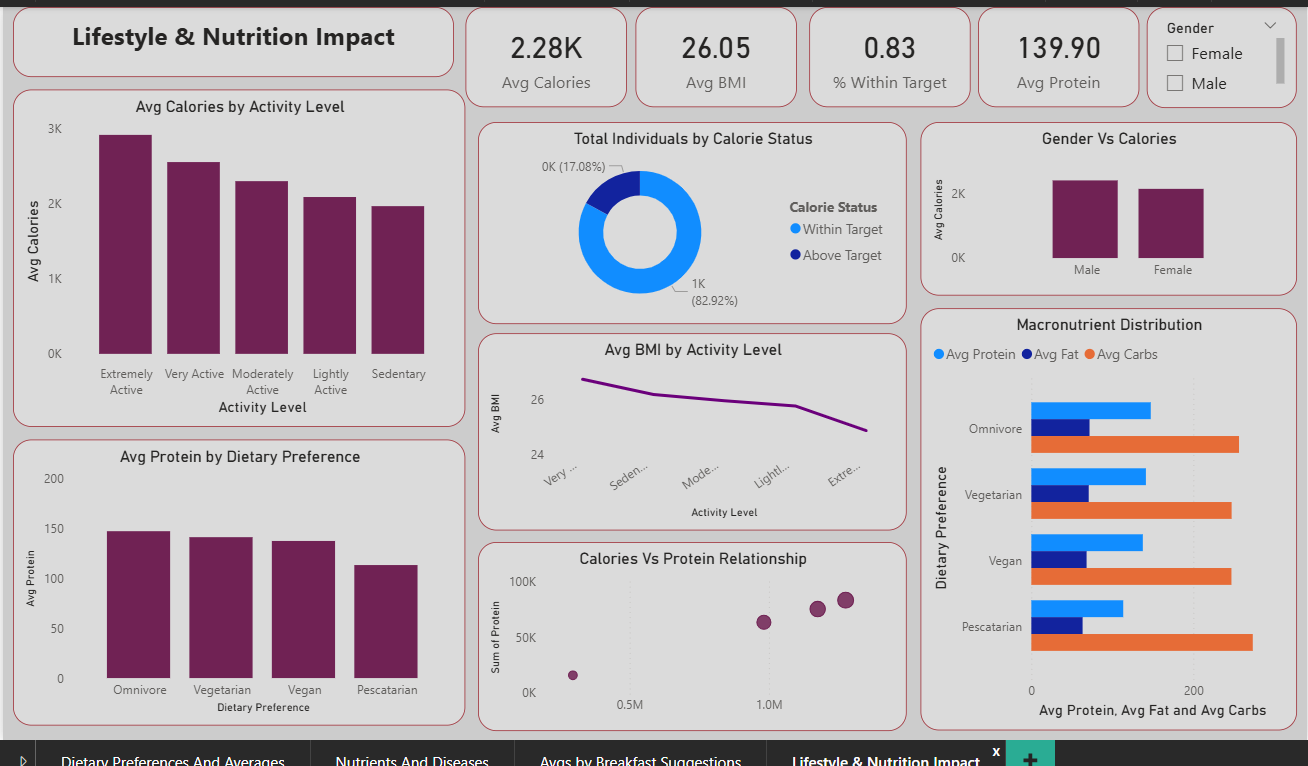

The dashboard page shown, as its layout file describes it:
{"tool":"powerbi","page":{"name":"Lifestyle & Nutrition Impact","canvas":[1280,720],"ordinal":3},"visuals":[{"type":"textbox","box":[9.8,0,433.1,68.7],"z":0},{"type":"card","fields":{"Values":["detailed_meals_macros_CLEANED.Avg Calories"]},"box":[454,0,158.3,98.2],"z":1000},{"type":"card","fields":{"Values":["detailed_meals_macros_CLEANED.Avg BMI"]},"box":[620.9,0,158.3,98.2],"z":2000},{"type":"card","fields":{"Values":["detailed_meals_macros_CLEANED.% Within Target"]},"box":[791.4,0,158.3,98.2],"z":3000},{"type":"clusteredColumnChart","fields":{"Category":["detailed_meals_macros_CLEANED.Activity Level"],"Y":["detailed_meals_macros_CLEANED.Avg Calories"]},"box":[9.8,81,444.2,331.3],"z":4000},{"type":"columnChart","fields":{"Category":["detailed_meals_macros_CLEANED.Dietary Preference"],"Y":["detailed_meals_macros_CLEANED.Avg Protein"]},"box":[9.8,424.5,444.2,281],"z":5000},{"type":"lineChart","fields":{"Category":["detailed_meals_macros_CLEANED.Activity Level"],"Y":["detailed_meals_macros_CLEANED.Avg BMI"]},"box":[466.3,320.2,420.9,193.9],"z":6000},{"type":"donutChart","fields":{"Category":["detailed_meals_macros_CLEANED.Calorie Status"],"Y":["detailed_meals_macros_CLEANED.Total Individuals"]},"box":[466.3,112.9,420.9,198.8],"z":7000},{"type":"slicer","fields":{"Values":["detailed_meals_macros_CLEANED.Gender"]},"box":[1122.7,0,147.2,99.4],"z":8000},{"type":"clusteredBarChart","title":"Macronutrient Distribution","fields":{"Category":["detailed_meals_macros_CLEANED.Dietary Preference"],"Y":["detailed_meals_macros_CLEANED.Avg Protein","detailed_meals_macros_CLEANED.Avg Fat","detailed_meals_macros_CLEANED.Avg Carbs"]},"box":[900.6,295.7,369.3,414.7],"z":9000},{"type":"card","fields":{"Values":["detailed_meals_macros_CLEANED.Avg Protein"]},"box":[957.1,0,158.3,98.2],"z":10000},{"type":"scatterChart","title":"Calories Vs Protein Relationship","fields":{"X":["Sum(detailed_meals_macros_CLEANED.Calories)"],"Y":["Sum(detailed_meals_macros_CLEANED.Protein)"],"Category":["detailed_meals_macros_CLEANED.Dietary Preference"],"Size":["Sum(detailed_meals_macros_CLEANED.Carbohydrates)"]},"box":[466.3,525.2,420.9,185.3],"z":11000},{"type":"clusteredColumnChart","title":" Gender Vs Calories","fields":{"Category":["detailed_meals_macros_CLEANED.Gender"],"Y":["detailed_meals_macros_CLEANED.Avg Calories"]},"box":[900.6,112.9,369.3,170.6],"z":12000}]}

Visuals, with their boxes on the page's 1280x720 design canvas (x1, y1, x2, y2). These are canvas units, not pixel positions in the 1308x766 screenshot, which may show the page scaled, cropped or inside an application window:
textbox: box(10, 0, 443, 69)
card - detailed_meals_macros_CLEANED.Avg Calories: box(454, 0, 612, 98)
card - detailed_meals_macros_CLEANED.Avg BMI: box(621, 0, 779, 98)
card - detailed_meals_macros_CLEANED.% Within Target: box(791, 0, 950, 98)
clusteredColumnChart - detailed_meals_macros_CLEANED.Activity Level x detailed_meals_macros_CLEANED.Avg Calories: box(10, 81, 454, 412)
columnChart - detailed_meals_macros_CLEANED.Dietary Preference x detailed_meals_macros_CLEANED.Avg Protein: box(10, 424, 454, 706)
lineChart - detailed_meals_macros_CLEANED.Activity Level x detailed_meals_macros_CLEANED.Avg BMI: box(466, 320, 887, 514)
donutChart - detailed_meals_macros_CLEANED.Calorie Status x detailed_meals_macros_CLEANED.Total Individuals: box(466, 113, 887, 312)
slicer - detailed_meals_macros_CLEANED.Gender: box(1123, 0, 1270, 99)
"Macronutrient Distribution" clusteredBarChart: box(901, 296, 1270, 710)
card - detailed_meals_macros_CLEANED.Avg Protein: box(957, 0, 1115, 98)
"Calories Vs Protein Relationship" scatterChart: box(466, 525, 887, 710)
" Gender Vs Calories" clusteredColumnChart: box(901, 113, 1270, 284)
